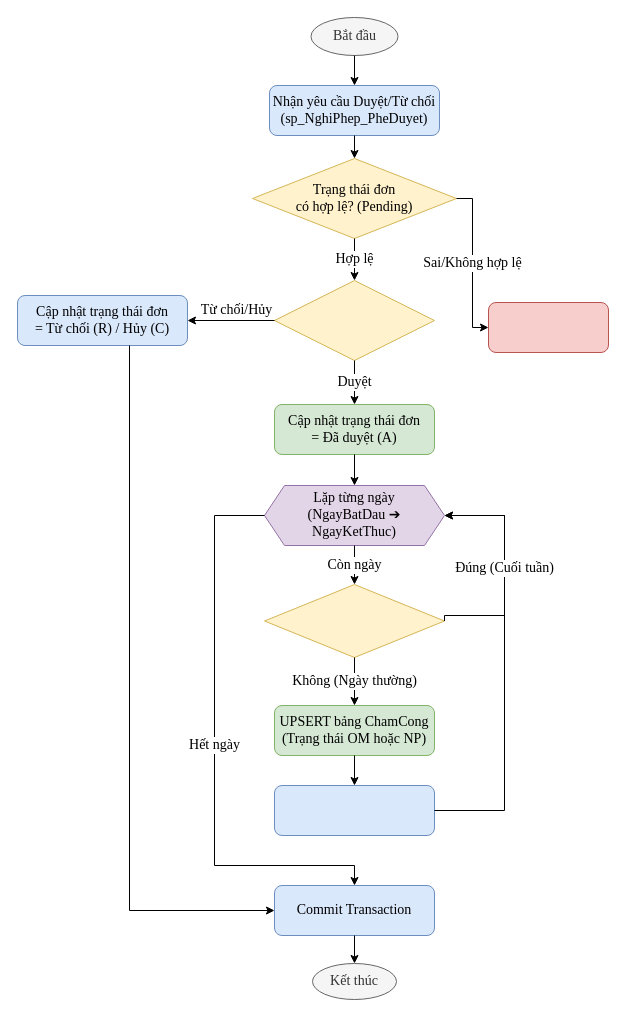
The diagram is 626 pixels wide and 1017 high, and some of its shapes have lost their labels. Here are the shapes that lost their labels. From the top down, the centre of each, then its label:
At pixel 354 320: "Hành động là gì?".
At pixel 548 327: "Báo lỗi & Rollback".
At pixel 354 621: "Ngày hiện tại là Thứ 7 / Chủ Nhật?".
At pixel 354 810: "Chuyển sang ngày tiếp theo".
